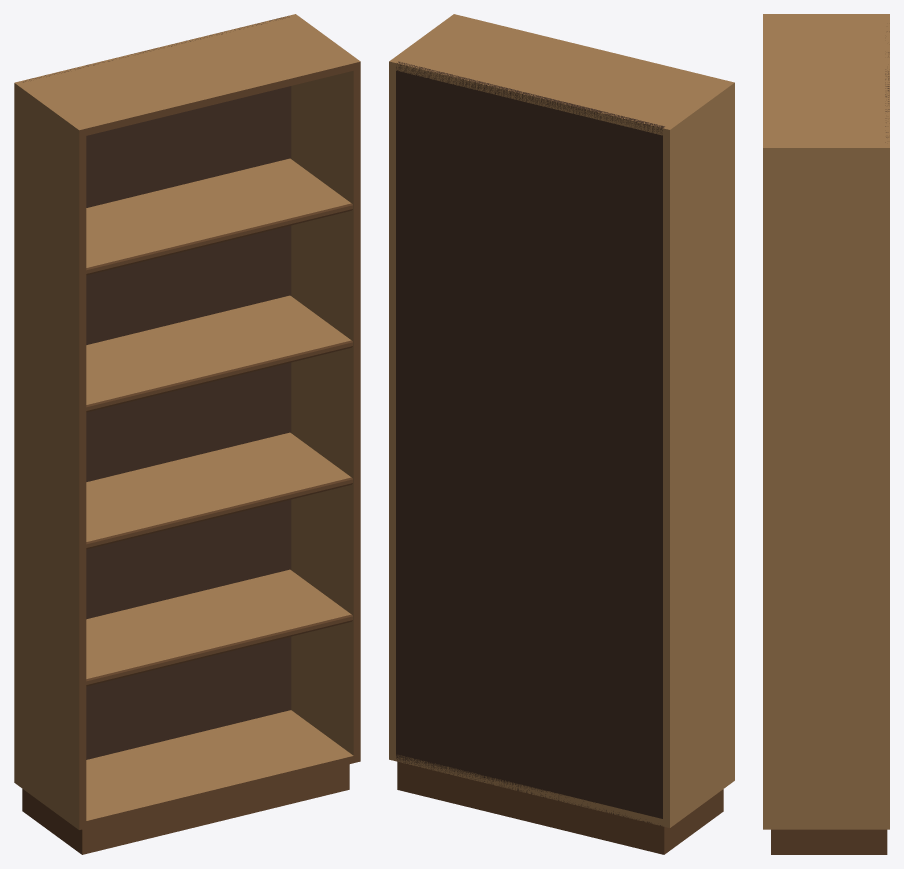
File: FN_Bookcase_Tall.glb
3 views of the same model, side by side, from view 1: azimuth 30°, elevation 25°; view 2: azimuth 150°, elevation 25°; view 3: azimuth 270°, elevation 25° (orthographic). The views are drawn at different scales.
Parts seen in each view (by area): view 1: FN_Bookcase_Tall; view 2: FN_Bookcase_Tall; view 3: FN_Bookcase_Tall.
Boxes of the visible parts, x1=… form: FN_Bookcase_Tall: x1=14, y1=14, x2=360, y2=854; FN_Bookcase_Tall: x1=389, y1=14, x2=734, y2=854; FN_Bookcase_Tall: x1=763, y1=14, x2=889, y2=854.
Bounding box in the file's own units: 0.8 × 1.98 × 0.32.
Materials: 1 (1 with a texture image).
